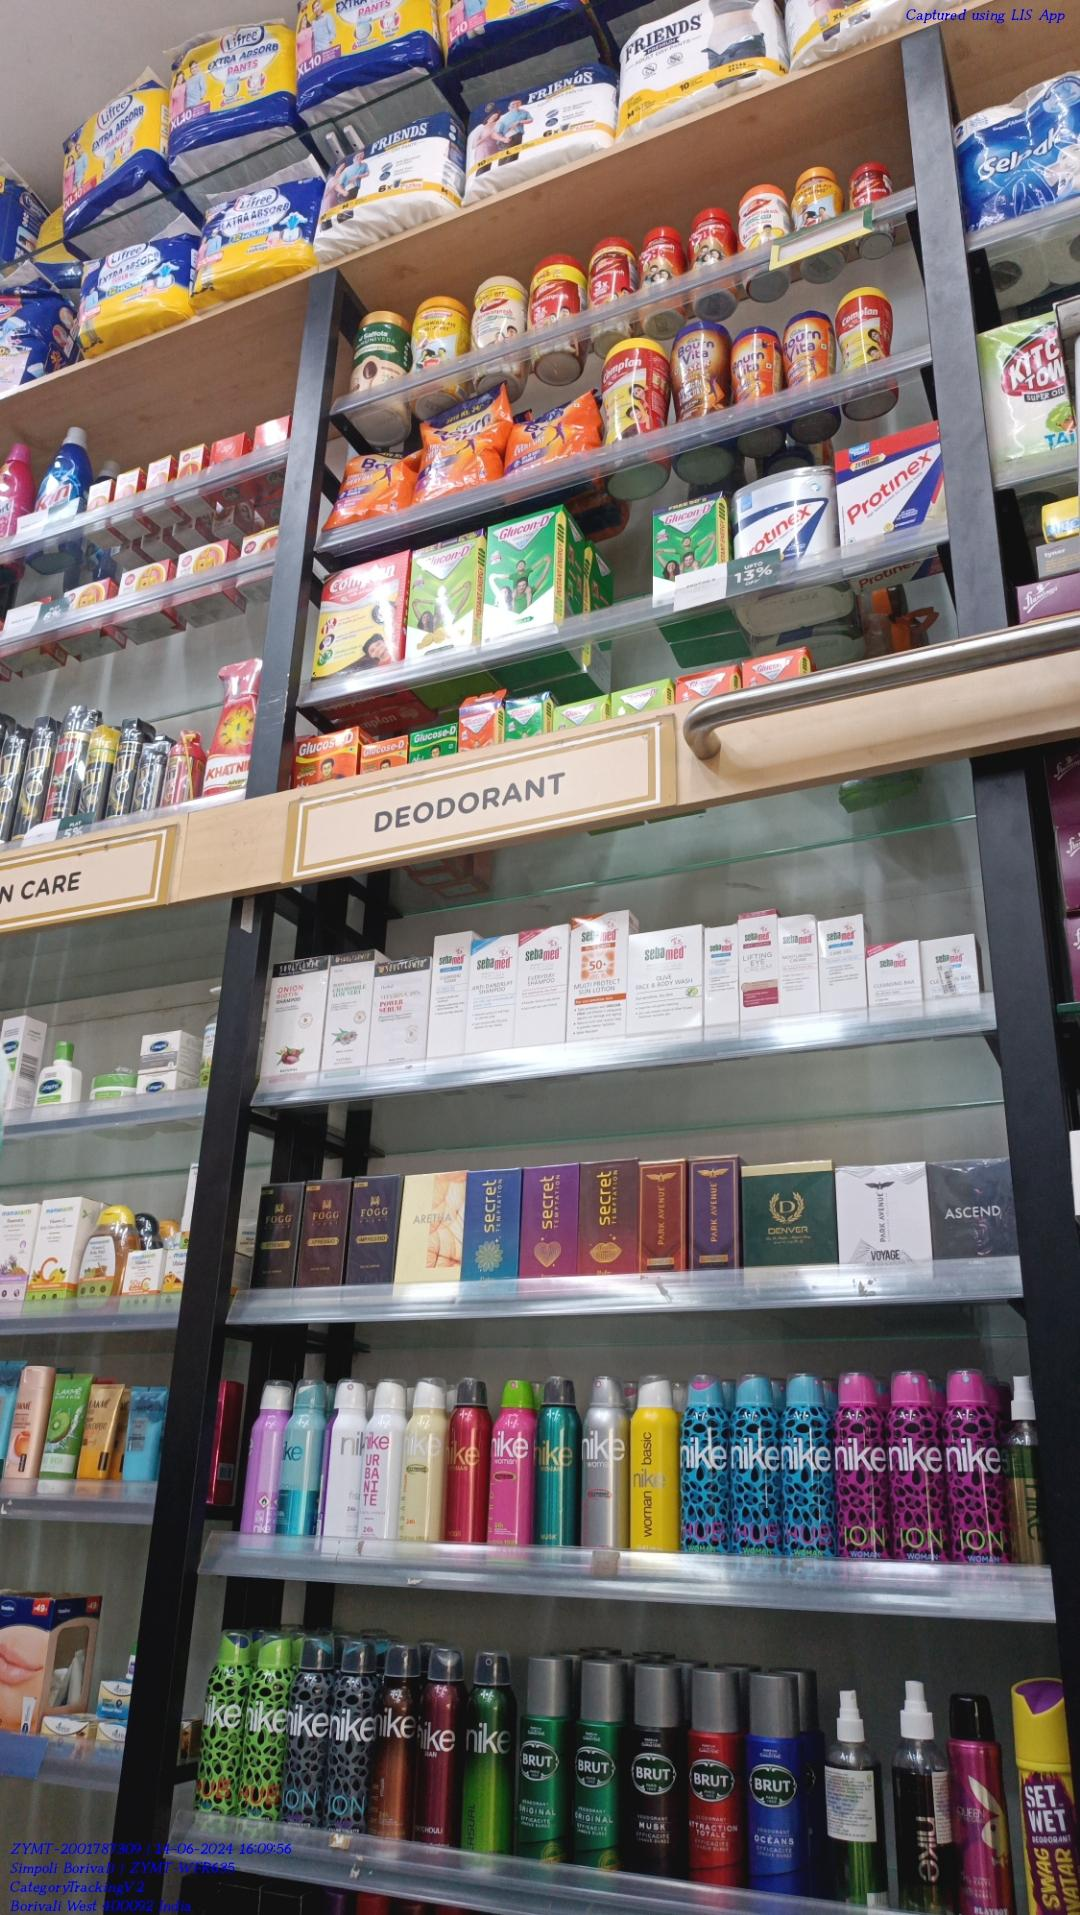BOURN_VITA_200_G_JAR: (781, 309, 830, 381), (731, 325, 775, 399)
BOURN_VITA_500_G_POUCH: (413, 396, 499, 488), (335, 441, 406, 517)
BOURN_VITA_FIVE_STAR_MAGIC_500_G_JAR: (670, 320, 724, 414)
COMPLAN_CHOCOLATE_200_GMS_JAR: (599, 337, 656, 438)
